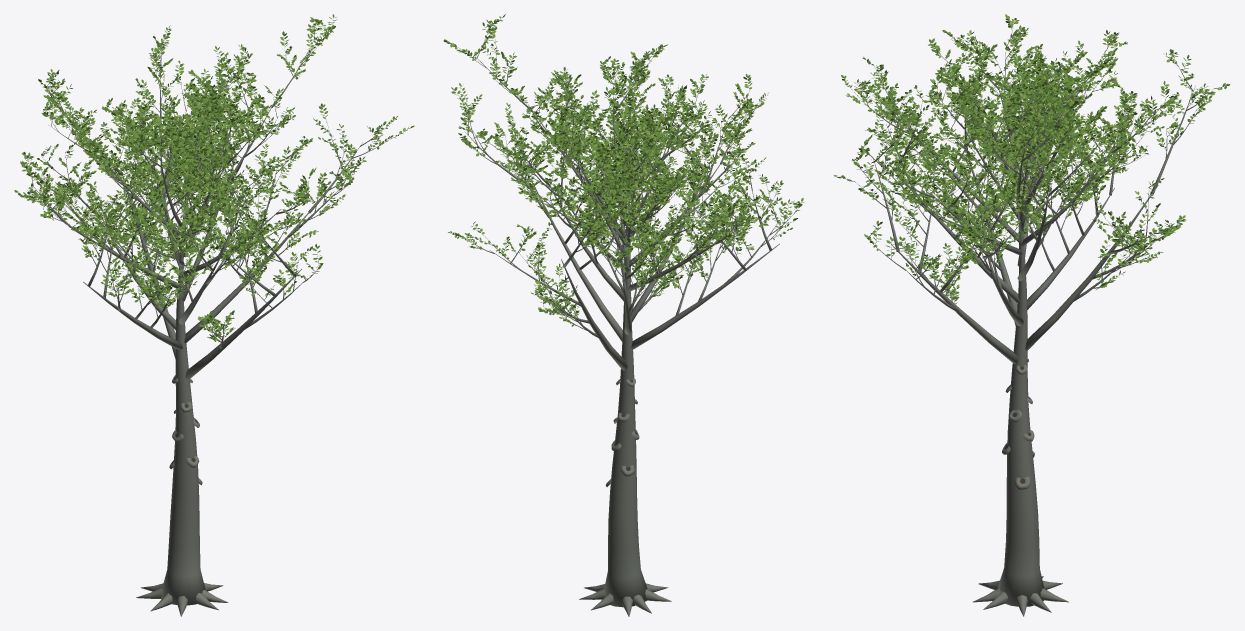
The model's file is Beech_Mature_01_HighPruned_Healed_LOD0.fbx.
3 renders of one model, left to right at view 1: azimuth 30°, elevation 25°; view 2: azimuth 150°, elevation 25°; view 3: azimuth 270°, elevation 25°, orthographic. The views are drawn at different scales.
Visible parts, largest first — view 1: Beech_Mature_01_HighPruned_Healed_LOD0; view 2: Beech_Mature_01_HighPruned_Healed_LOD0, Beech_Mature_01_HighPruned_Healed_LOD0_Scars; view 3: Beech_Mature_01_HighPruned_Healed_LOD0, Beech_Mature_01_HighPruned_Healed_LOD0_Scars.
Part boxes in pixels (x1,y1,x2,y2): Beech_Mature_01_HighPruned_Healed_LOD0: (14,14,414,616); Beech_Mature_01_HighPruned_Healed_LOD0: (443,14,803,616); Beech_Mature_01_HighPruned_Healed_LOD0_Scars: (605,378,639,486); Beech_Mature_01_HighPruned_Healed_LOD0: (834,14,1230,616); Beech_Mature_01_HighPruned_Healed_LOD0_Scars: (1002,359,1034,489).
Size of the model in its own units: 1689 by 2506 by 1535.
Materials: 6 (2 with a texture image).
